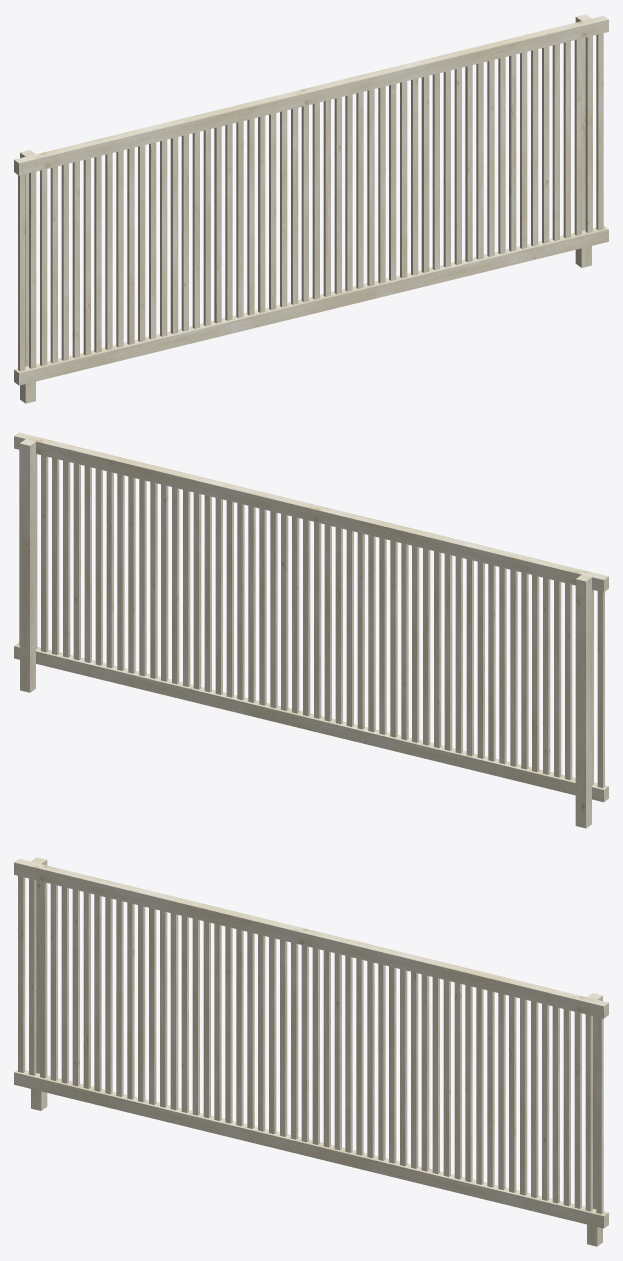
File: EAFtatehosogoushi_w1998-h720_whitepine.fbx
The picture shows the model from 3 angles, top to bottom: view 1: azimuth 30°, elevation 25°; view 2: azimuth 150°, elevation 25°; view 3: azimuth 330°, elevation 25°; orthographic projection.
Parts seen in each view (by area): view 1: EAFtatehosogoushi_w1998-h720_whitepine; view 2: EAFtatehosogoushi_w1998-h720_whitepine; view 3: EAFtatehosogoushi_w1998-h720_whitepine.
Boxes of the visible parts, x1,y1,x2,y2 form: EAFtatehosogoushi_w1998-h720_whitepine: (14,14,608,403); EAFtatehosogoushi_w1998-h720_whitepine: (14,432,608,828); EAFtatehosogoushi_w1998-h720_whitepine: (14,857,608,1246).
Bounding box in the file's own units: 200 × 80 × 6.5.
Materials: 1 (1 with a texture image).
